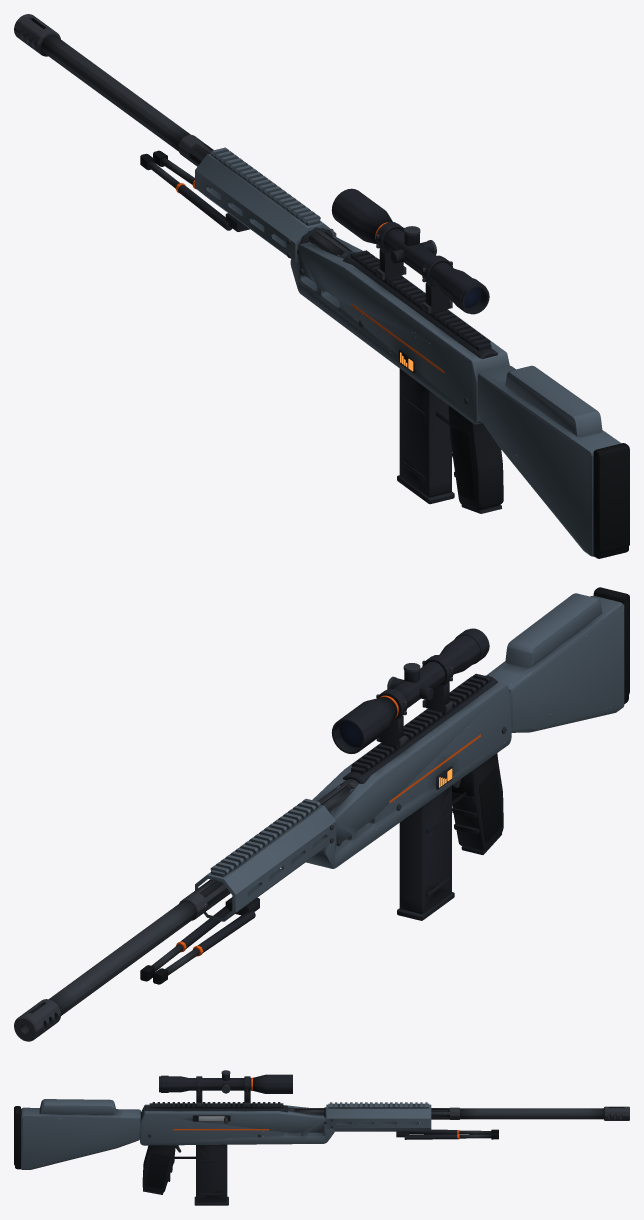
Rendered from barrett-m82.glb.
The picture shows the model from 3 angles, top to bottom: view 1: azimuth 30°, elevation 25°; view 2: azimuth 150°, elevation 25°; view 3: azimuth 270°, elevation 25°; orthographic projection. The views are drawn at different scales.
Parts seen in each view (by area): view 1: body_frame, body_frame2, body_steel, mag_frame2, body_rubber, body_polymer; view 2: body_frame, body_frame2, body_steel, mag_frame2, body_polymer, body_rubber; view 3: body_frame, body_frame2, body_steel, mag_frame2, body_rubber, body_polymer, body_accent.
Part boxes in pixels (x1,y1,x2,y2): body_frame: (195,147,620,556); body_frame2: (178,185,501,513); body_steel: (14,14,468,404); mag_frame2: (397,369,454,504); body_rubber: (140,150,629,558); body_polymer: (448,406,503,509); body_frame: (195,593,624,921); body_frame2: (180,628,501,953); body_steel: (14,660,506,1041); mag_frame2: (397,785,454,920); body_polymer: (452,753,503,851); body_rubber: (140,587,629,984); body_frame: (21,1099,431,1169); body_frame2: (143,1074,457,1194); body_steel: (148,1070,629,1152); mag_frame2: (194,1144,228,1205); body_rubber: (14,1106,498,1188); body_polymer: (142,1145,175,1193); body_accent: (173,1077,459,1139).
Size of the model in its own units: 0.0702 by 0.302 by 1.29.
